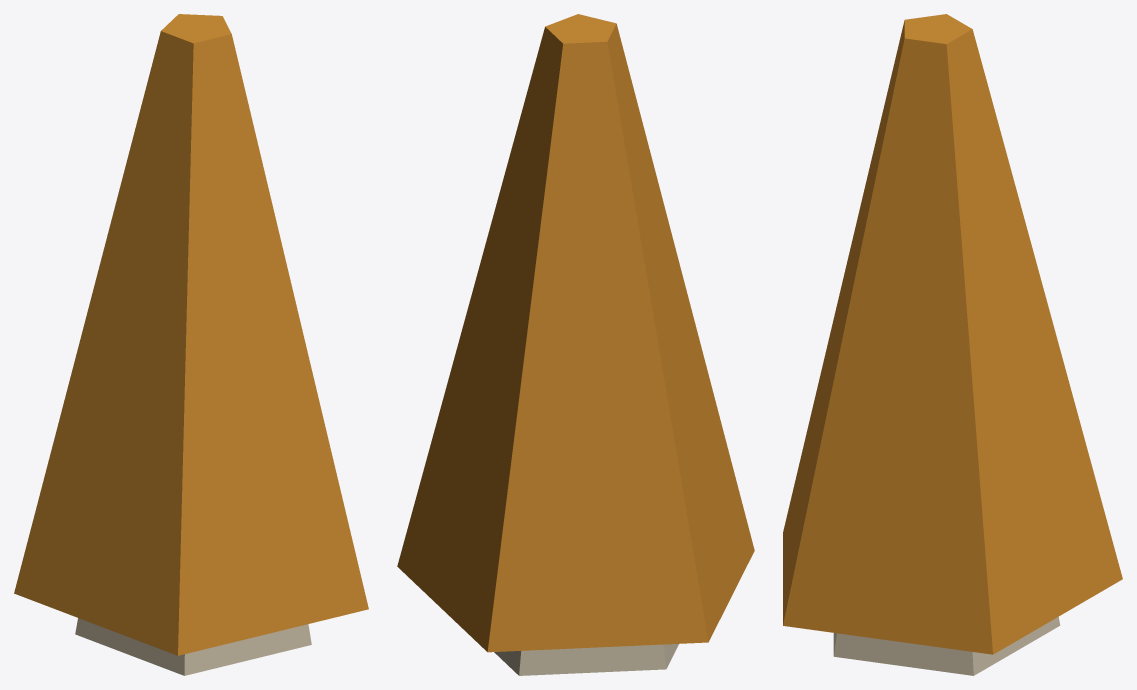
Rendered from booster.fbx.
The picture shows the model from 3 angles, left to right: view 1: azimuth 30°, elevation 25°; view 2: azimuth 150°, elevation 25°; view 3: azimuth 270°, elevation 25°; orthographic projection.
Parts seen in each view (by area): view 1: Cone; view 2: Cone; view 3: Cone.
Part boxes in pixels (<box>): Cone: <box>14,14,368,675</box>; Cone: <box>397,14,754,675</box>; Cone: <box>783,14,1122,675</box>.
Bounding box in the file's own units: 190 × 350 × 181.
